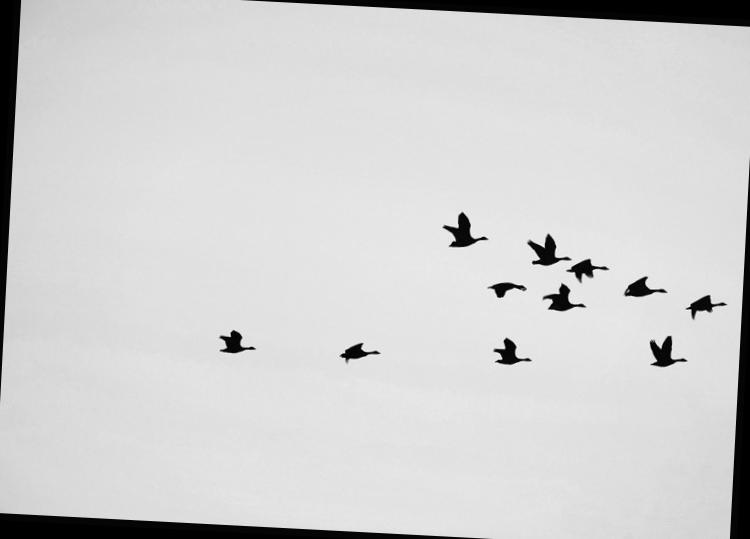bird: (202, 318, 267, 368), (440, 204, 502, 254), (637, 328, 692, 378), (479, 328, 539, 372), (514, 224, 574, 268), (328, 331, 390, 372), (614, 268, 674, 304), (536, 278, 591, 315), (676, 286, 728, 322), (564, 252, 610, 285), (480, 274, 530, 302)
